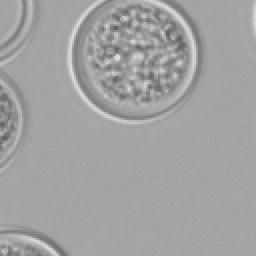picoshell: (66, 0, 200, 122), (0, 72, 24, 170), (0, 224, 66, 254)
